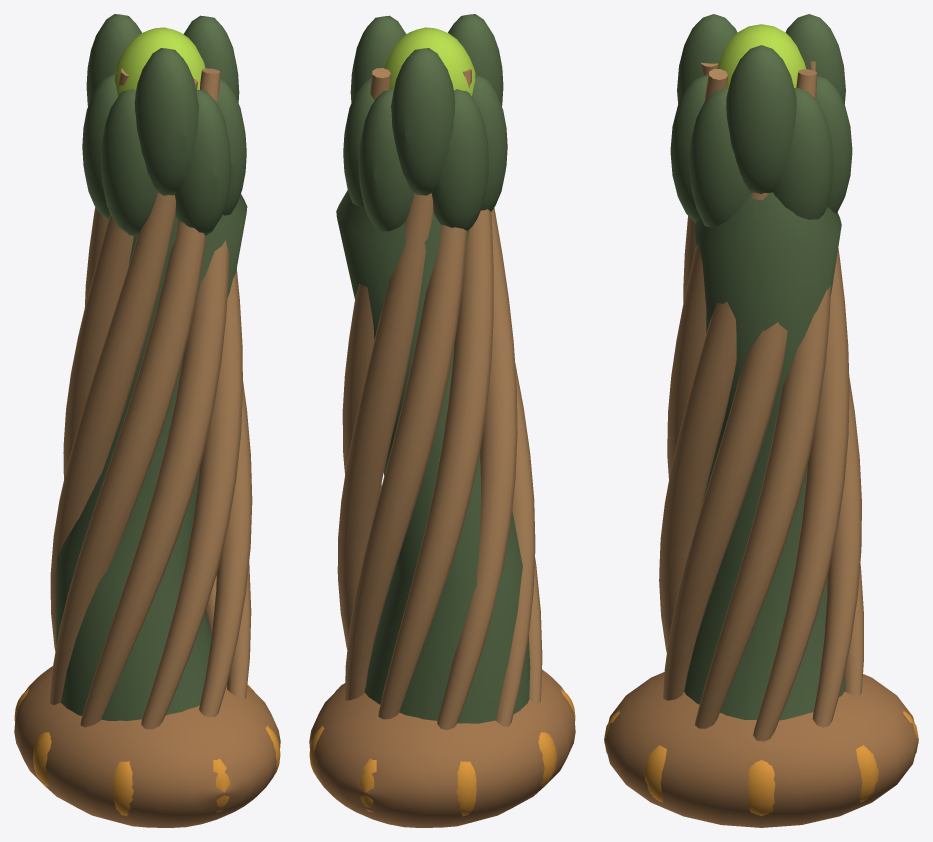
Rendered from tower_xylo.glb.
3 views of the same model, side by side, from view 1: azimuth 30°, elevation 25°; view 2: azimuth 150°, elevation 25°; view 3: azimuth 270°, elevation 25° (orthographic). The views are drawn at different scales.
Visible parts, largest first — view 1: tower_xylo; view 2: tower_xylo; view 3: tower_xylo.
Boxes of the visible parts, x1,y1,x2,y2 form: tower_xylo: (14, 14, 280, 827); tower_xylo: (309, 14, 575, 827); tower_xylo: (604, 14, 918, 827).
Bounding box in the file's own units: 3.2 × 10.67 × 3.84.
